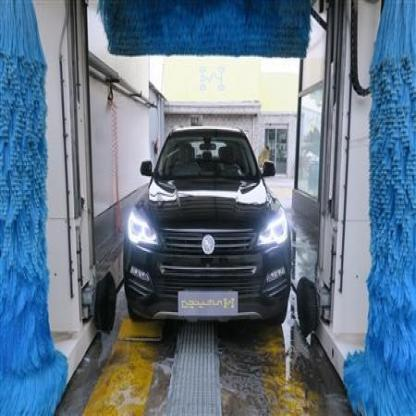Car: (116, 122, 293, 340)
